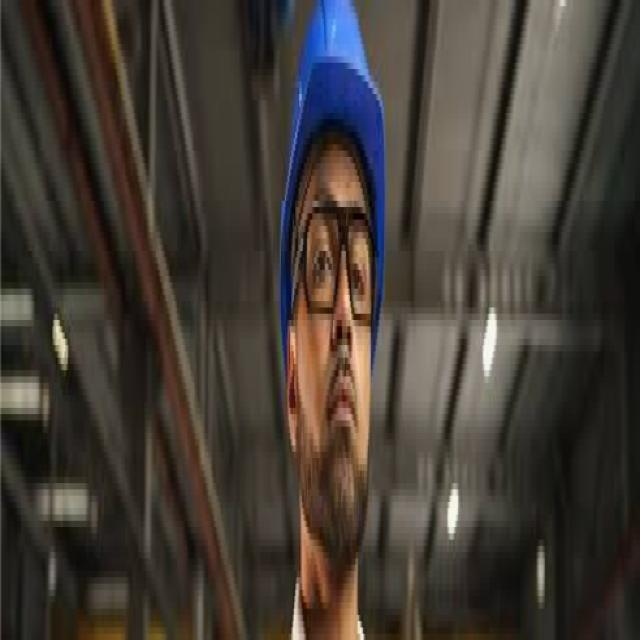glasses: (297, 168, 378, 340)
